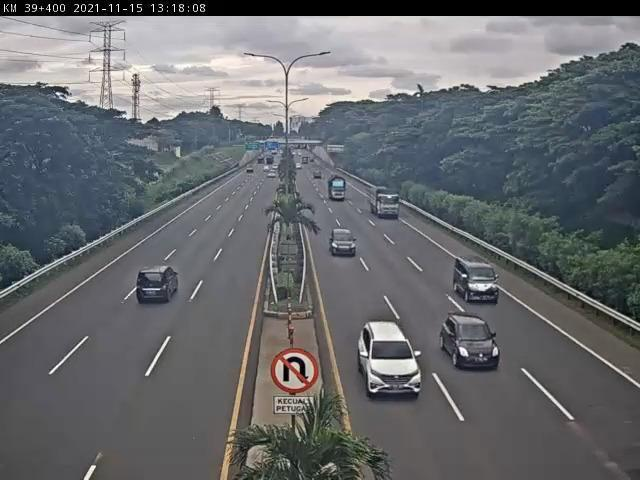car: (356, 320, 424, 398), (441, 314, 501, 373), (453, 255, 502, 304), (135, 264, 181, 304), (331, 228, 360, 259)
